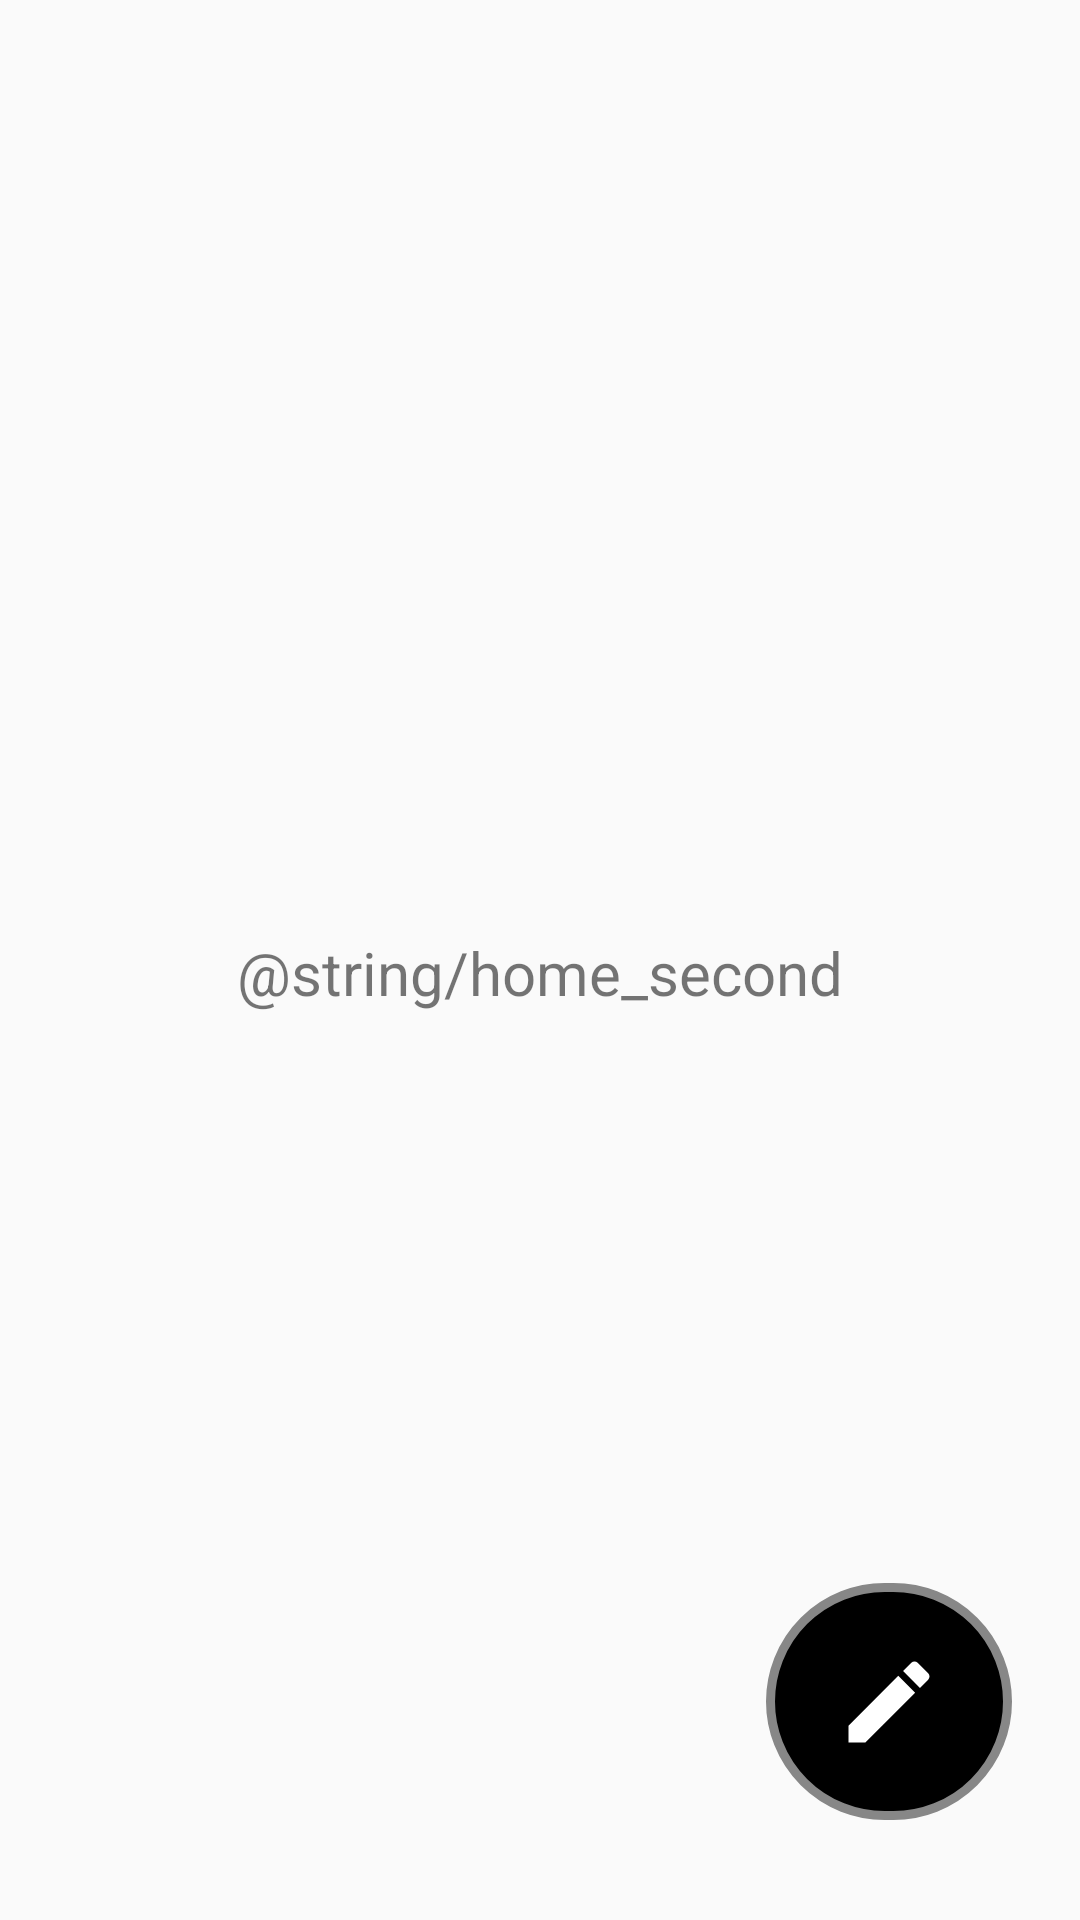

Screen size 1080px x 1920px. Icon name, then its center in pixels as point (x, y):
edit whitw: point (889, 1701)
